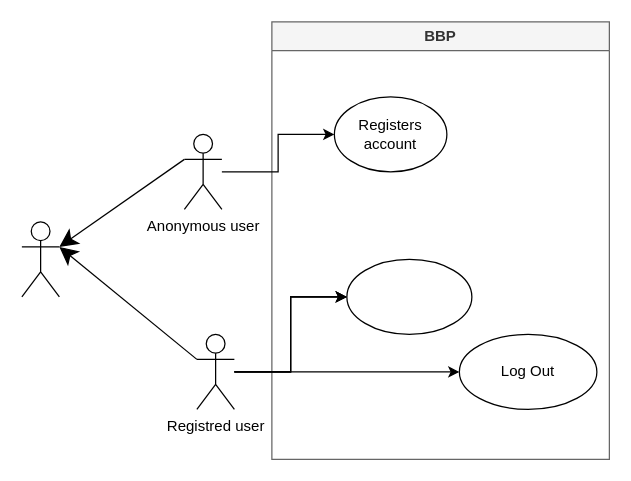
Some shapes in this 631 by 481 pixel diagram are drawn without their labels. The centre of each missing label's shape, as x and y in pixels:
"Log In" belongs at pixel 409 296.
"User" belongs at pixel 40 259.
